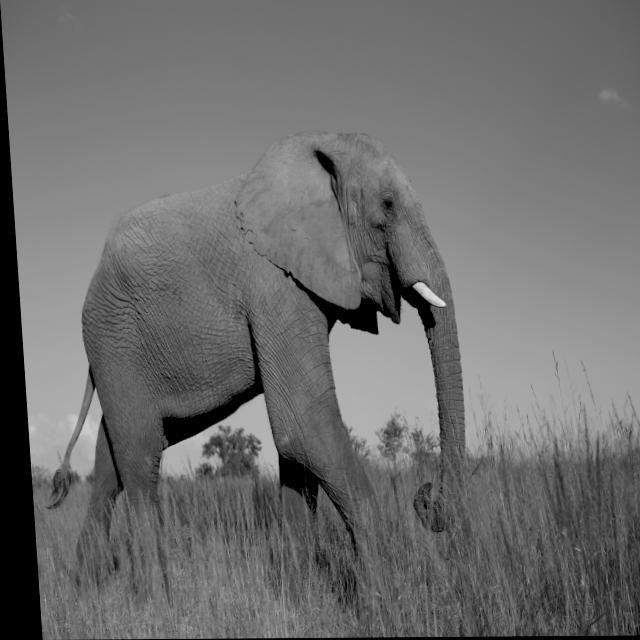Elephant: (53, 60, 545, 587)
